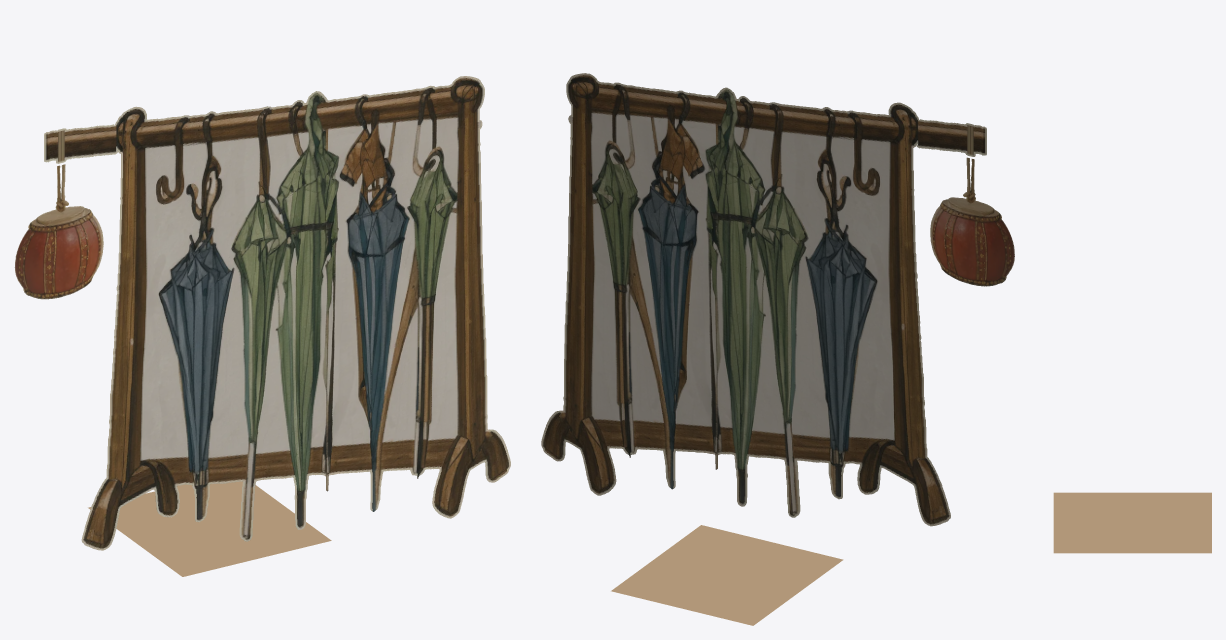
Rendered from toad-standee-rain-tools.glb.
3 views of the same model, side by side, from view 1: azimuth 30°, elevation 25°; view 2: azimuth 150°, elevation 25°; view 3: azimuth 270°, elevation 25° (orthographic). The views are drawn at different scales.
Visible parts, largest first — view 1: rain-tools; view 2: rain-tools; view 3: rain-tools.
Boxes of the visible parts, box(x1,y1,x2,y2) form: rain-tools: box(14, 76, 510, 576); rain-tools: box(541, 73, 1014, 625); rain-tools: box(1053, 492, 1211, 553).
Size of the model in its own units: 0.1 by 0.0942 by 0.035.
1 material, 1 textured.
